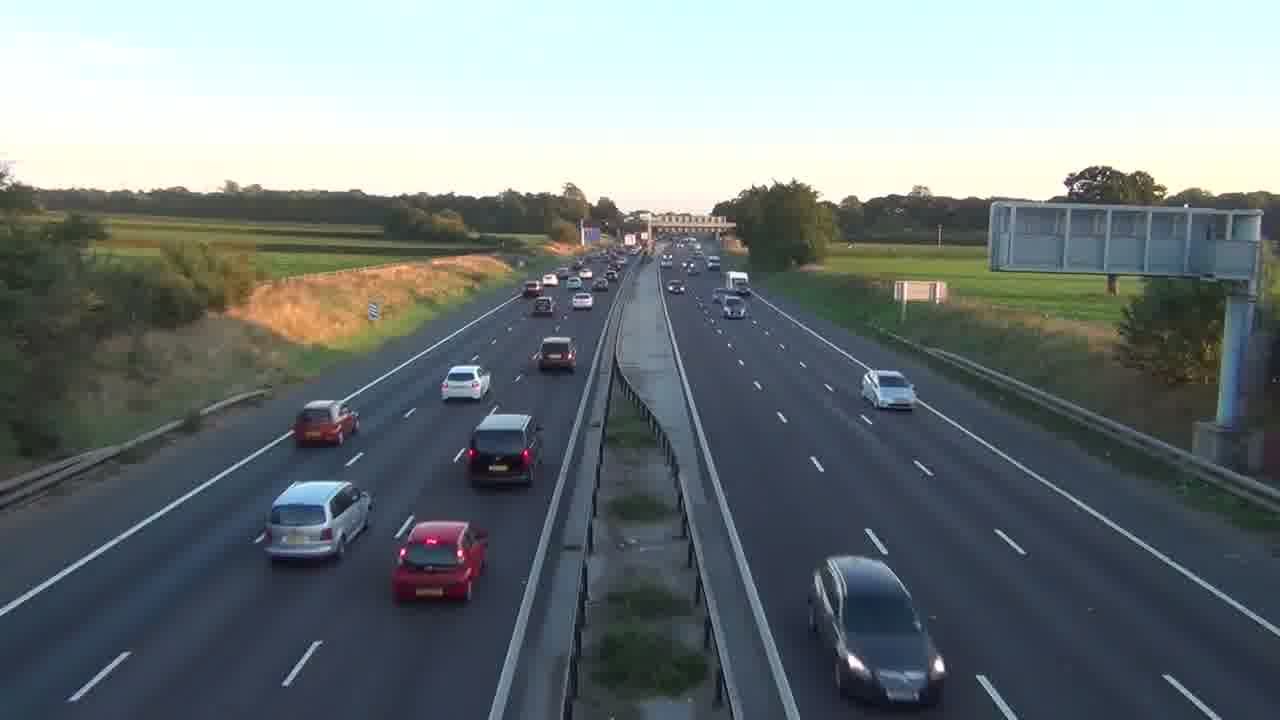car: (807, 554, 947, 708), (252, 479, 374, 564), (390, 514, 490, 605), (455, 411, 545, 489), (292, 399, 359, 448), (860, 368, 915, 411), (439, 364, 492, 402), (570, 291, 593, 310)
